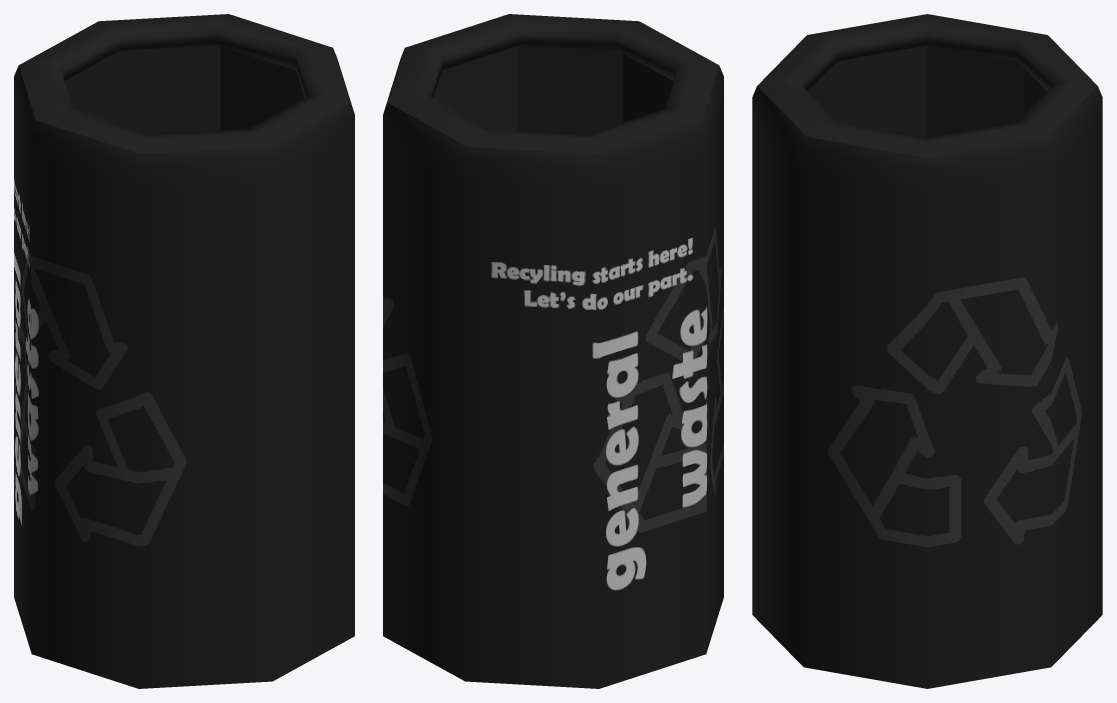
Rendered from RubbishBin1.fbx.
3 views of the same model, side by side, from view 1: azimuth 30°, elevation 25°; view 2: azimuth 150°, elevation 25°; view 3: azimuth 270°, elevation 25° (orthographic).
Visible parts, largest first — view 1: pCylinder1; view 2: pCylinder1; view 3: pCylinder1.
Boxes of the visible parts, bbox=[...] form: pCylinder1: bbox=[14, 14, 354, 688]; pCylinder1: bbox=[383, 14, 723, 688]; pCylinder1: bbox=[752, 14, 1102, 688].
Size of the model in its own units: 6.28 by 10.58 by 6.28.
